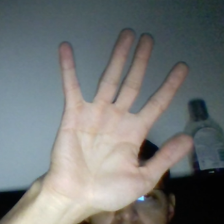left: (48, 28, 192, 213)
